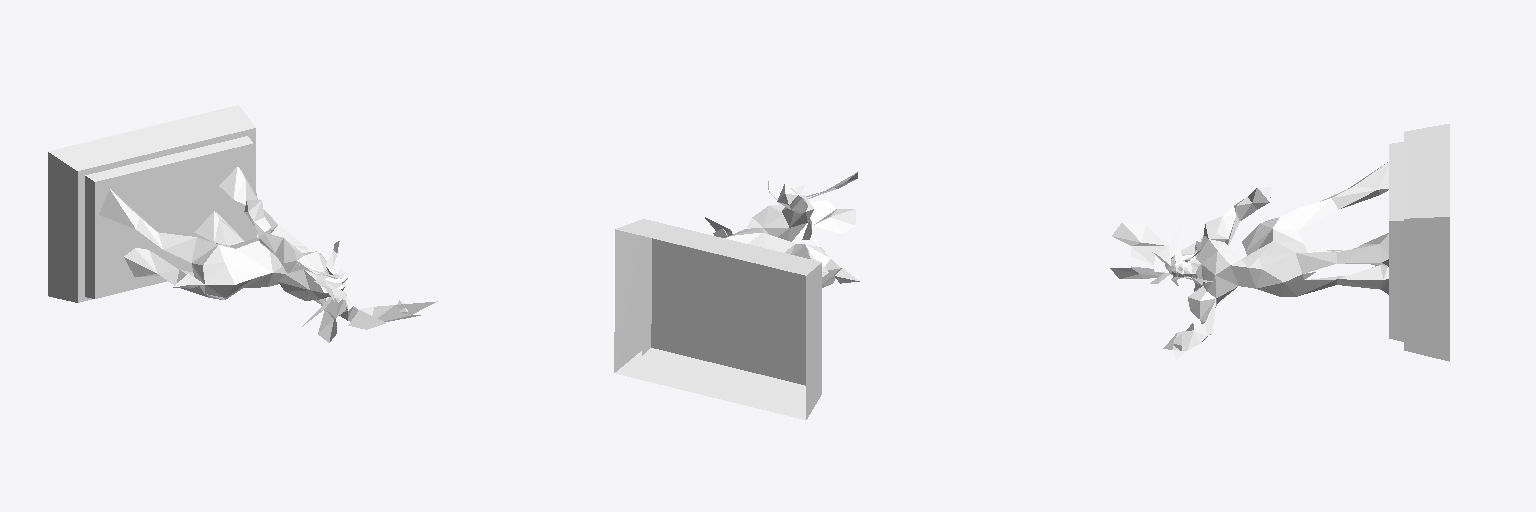
Rendered from KeeperStatue.OBJ.
3 renders of one model, left to right at view 1: azimuth 30°, elevation 25°; view 2: azimuth 150°, elevation 25°; view 3: azimuth 270°, elevation 25°, orthographic.
Parts seen in each view (by area): view 1: KeeperStatue(m0); view 2: KeeperStatue(m0); view 3: KeeperStatue(m0).
Boxes of the visible parts, <box> form: KeeperStatue(m0): <box>48,105,437,342</box>; KeeperStatue(m0): <box>614,172,859,419</box>; KeeperStatue(m0): <box>1110,124,1449,361</box>.
Bounding box in the file's own units: 400 × 225 × 478.